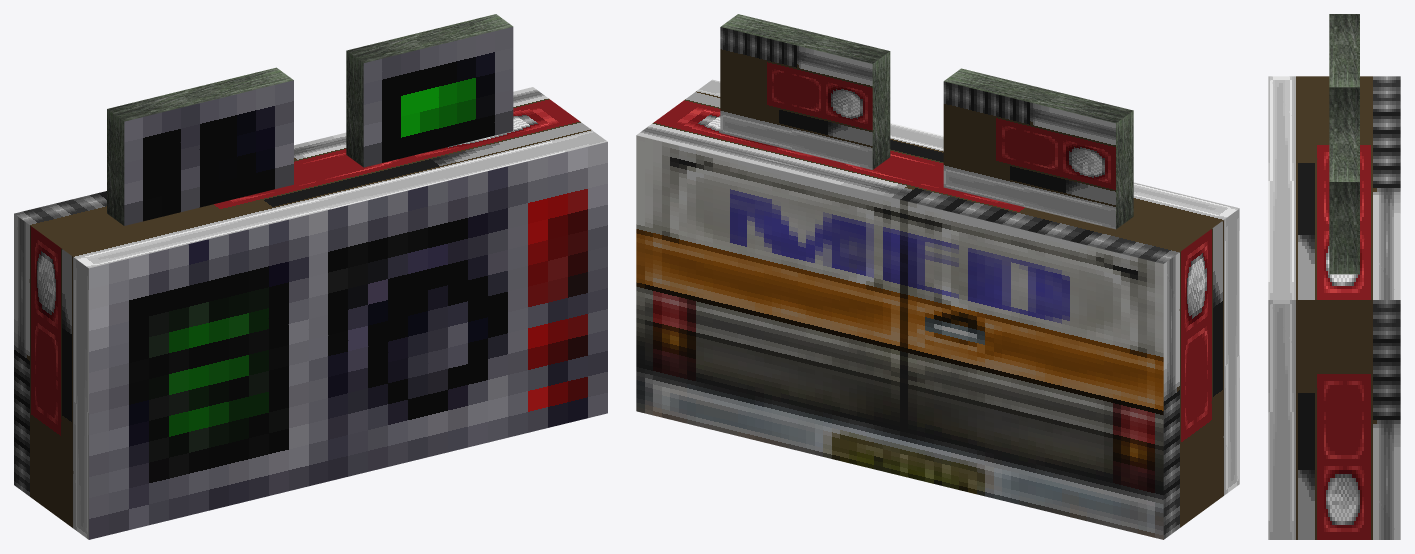
3 views of the same model, side by side, from view 1: azimuth 30°, elevation 25°; view 2: azimuth 150°, elevation 25°; view 3: azimuth 270°, elevation 25° (orthographic). The views are drawn at different scales.
Parts seen in each view (by area): view 1: prim145-Box123; view 2: prim145-Box123; view 3: prim145-Box123.
Part boxes in pixels (x1,y1,x2,y2): prim145-Box123: (14, 14, 607, 539); prim145-Box123: (636, 14, 1239, 539); prim145-Box123: (1268, 14, 1400, 539).
Size of the model in its own units: 52 by 36 by 13.
4 materials, 4 textured.
